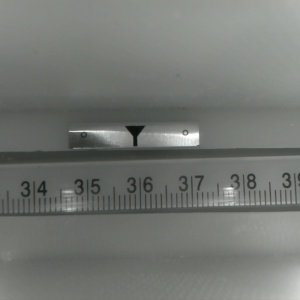3: (177, 175, 188, 192), (19, 181, 30, 197), (282, 172, 292, 189), (72, 179, 83, 194), (126, 177, 136, 193), (229, 174, 239, 190)
4: (36, 181, 47, 196)
5: (90, 179, 100, 194)
6: (142, 176, 153, 193)
7: (194, 175, 204, 191)
8: (245, 173, 255, 189)
finger: (122, 125, 145, 146)
